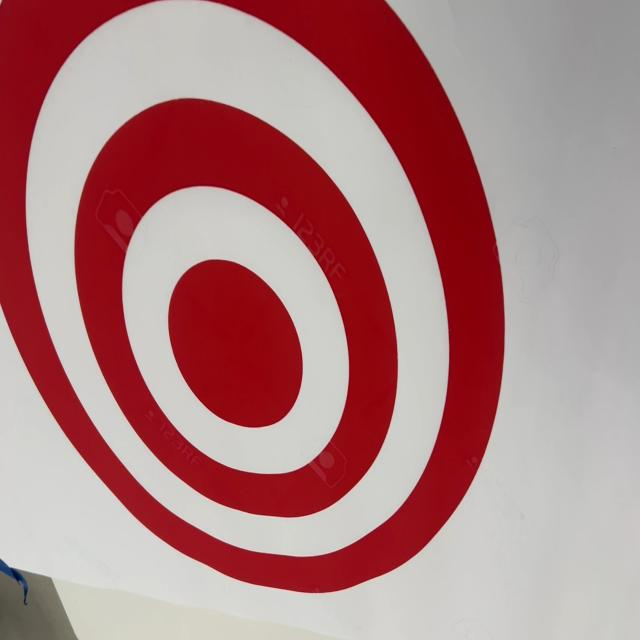target_red: (0, 0, 521, 599)
